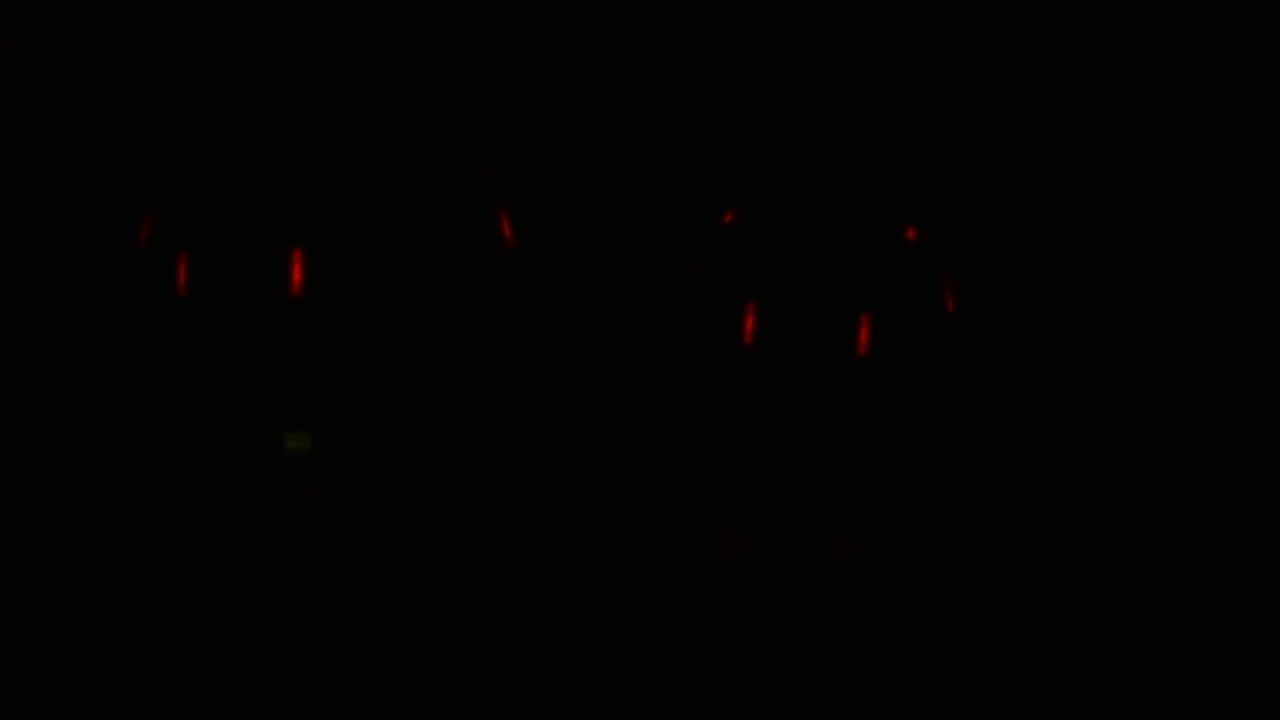pair1: (733, 294, 874, 356), (177, 247, 301, 300)
